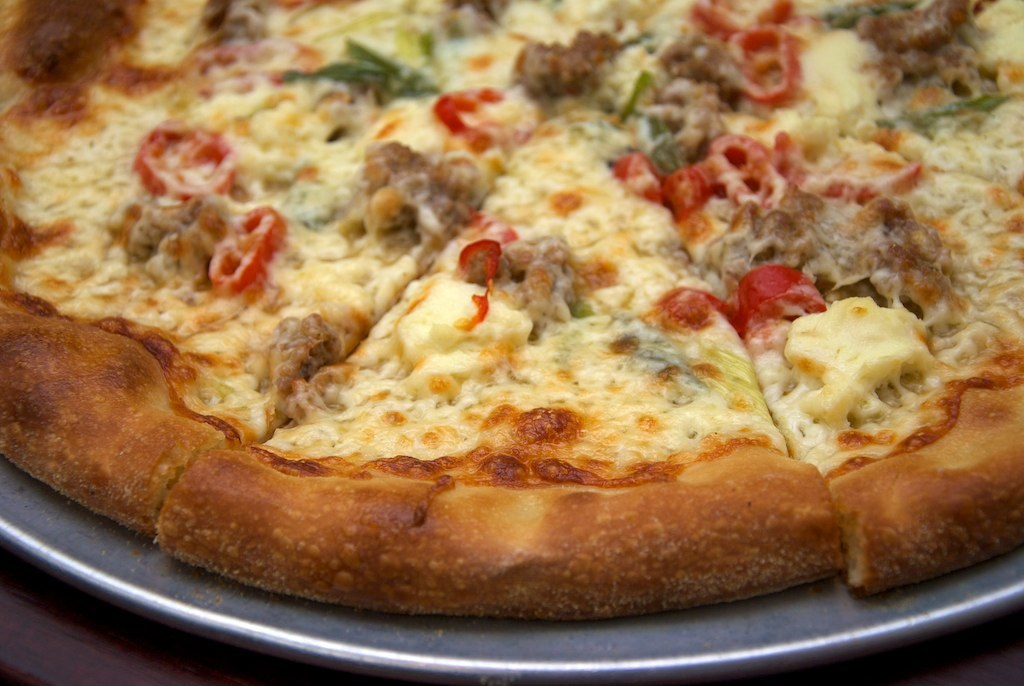Pizza: (0, 16, 1024, 641)
